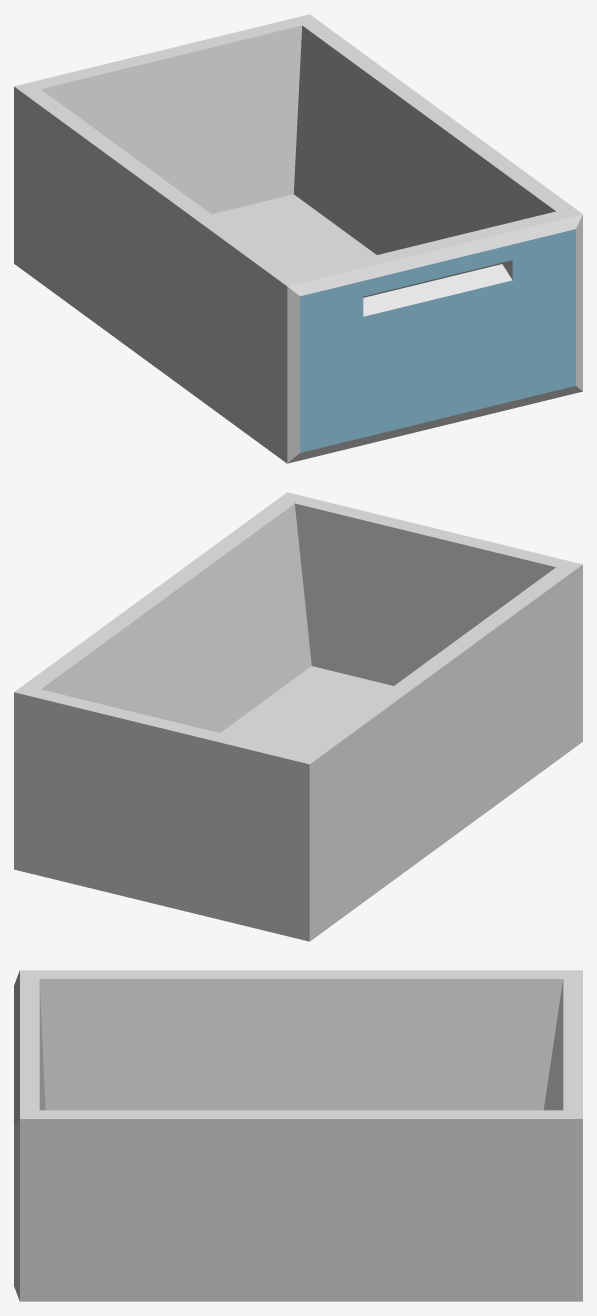
Rendered from KAC-F1000_FridgeSBS_V1_FreezerDrawer.glb.
3 renders of one model, top to bottom at view 1: azimuth 30°, elevation 25°; view 2: azimuth 150°, elevation 25°; view 3: azimuth 270°, elevation 25°, orthographic. The views are drawn at different scales.
Visible parts, largest first — view 1: KAC-F1000_FridgeSBS_V1_FreezerDrawer; view 2: KAC-F1000_FridgeSBS_V1_FreezerDrawer; view 3: KAC-F1000_FridgeSBS_V1_FreezerDrawer.
Part boxes in pixels (x1=…): KAC-F1000_FridgeSBS_V1_FreezerDrawer: x1=14, y1=14, x2=582, y2=463; KAC-F1000_FridgeSBS_V1_FreezerDrawer: x1=14, y1=492, x2=582, y2=941; KAC-F1000_FridgeSBS_V1_FreezerDrawer: x1=14, y1=970, x2=582, y2=1301.
Size of the model in its own units: 0.3 by 0.1719 by 0.485.
1 material, 1 textured.
